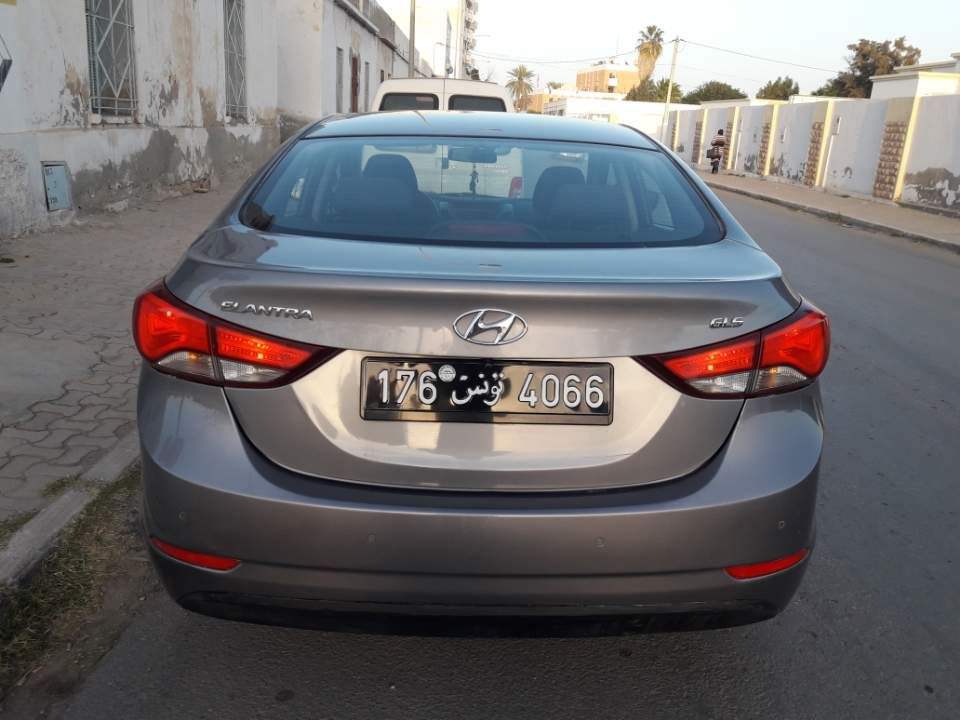LP: (359, 357, 616, 422)
